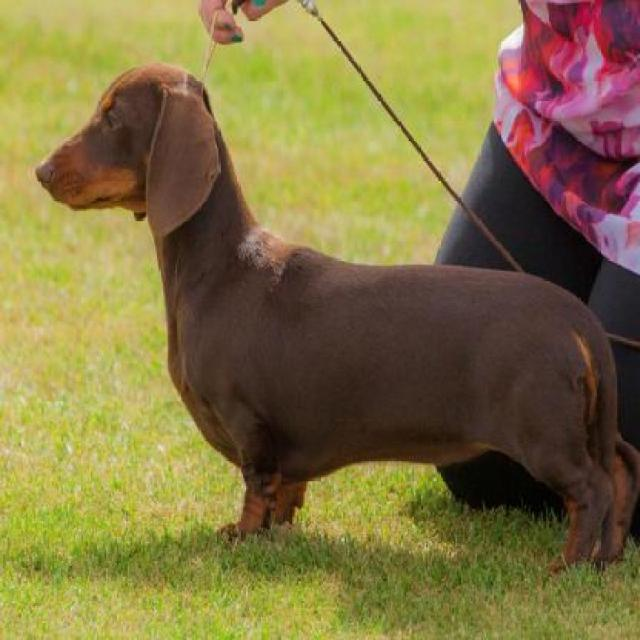Dog: (35, 54, 636, 572)
